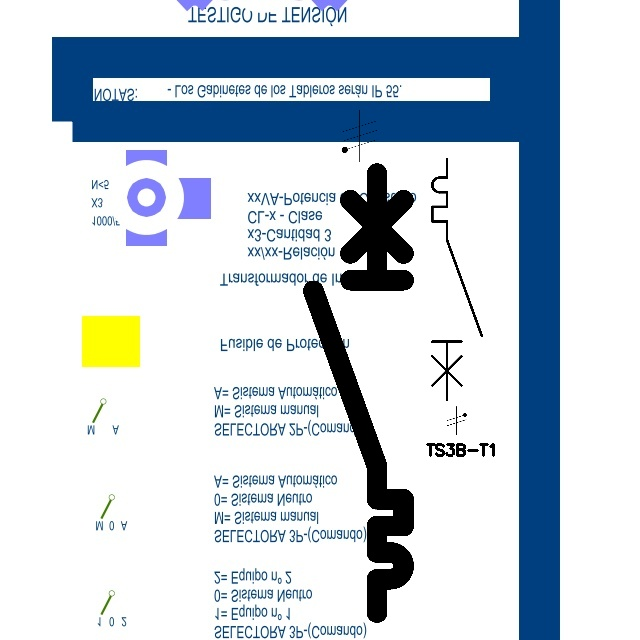interruptor_termomagnetico: (302, 162, 415, 624), (426, 153, 488, 406)
